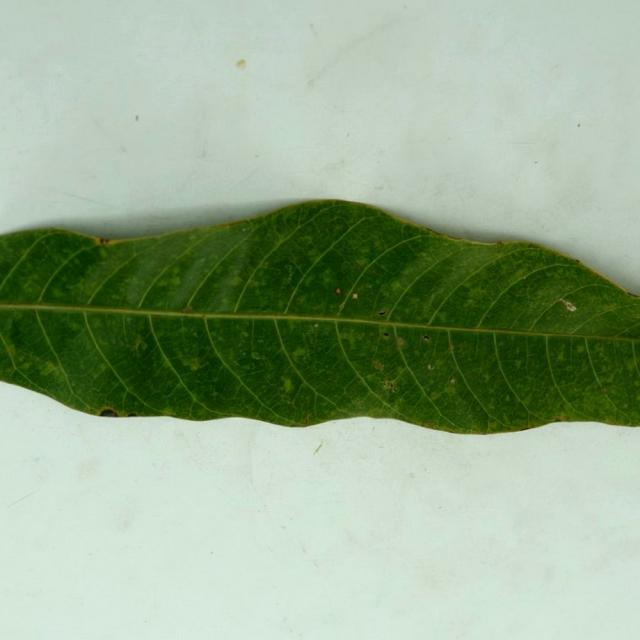Mango: (0, 201, 639, 433)
Powdery_Mildew: (130, 334, 148, 354), (42, 361, 60, 377), (49, 285, 68, 298), (280, 378, 295, 394), (560, 299, 577, 312), (291, 348, 307, 361), (282, 264, 295, 280), (382, 379, 397, 392), (188, 358, 202, 371), (593, 343, 606, 357), (159, 408, 178, 417), (228, 276, 243, 287), (168, 276, 181, 287), (313, 441, 323, 455), (389, 282, 402, 292), (356, 257, 369, 267), (6, 345, 17, 356), (372, 360, 383, 371), (395, 336, 405, 348), (189, 235, 201, 244), (247, 280, 260, 288), (236, 59, 246, 69), (483, 372, 492, 383), (430, 391, 441, 399), (576, 344, 585, 353), (556, 352, 565, 361), (338, 302, 346, 312), (303, 416, 311, 426), (182, 306, 193, 313), (99, 238, 110, 245), (251, 352, 260, 360), (513, 359, 522, 367), (377, 310, 387, 316), (600, 387, 609, 393), (449, 343, 455, 351), (422, 335, 430, 341), (505, 394, 511, 401), (427, 364, 434, 370), (450, 377, 456, 384), (496, 240, 504, 245), (242, 332, 248, 338), (335, 288, 341, 294), (352, 293, 358, 299), (383, 332, 389, 337), (126, 317, 132, 322), (521, 277, 527, 282), (575, 259, 581, 263), (242, 352, 246, 357), (314, 323, 318, 327), (242, 228, 246, 232)
